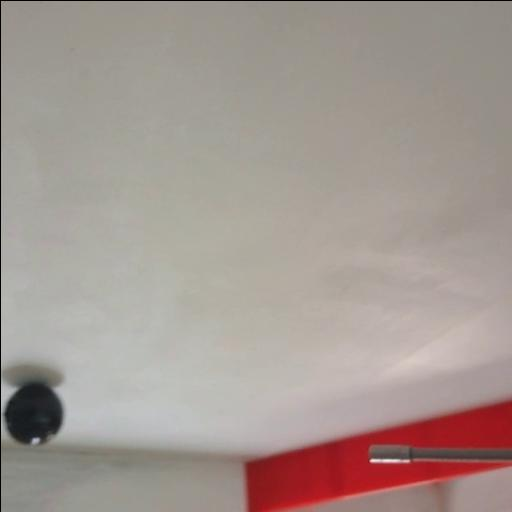dead: (2, 382, 64, 446)
